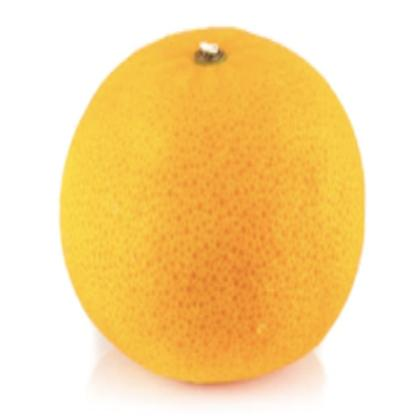fresh: (63, 26, 362, 383)
